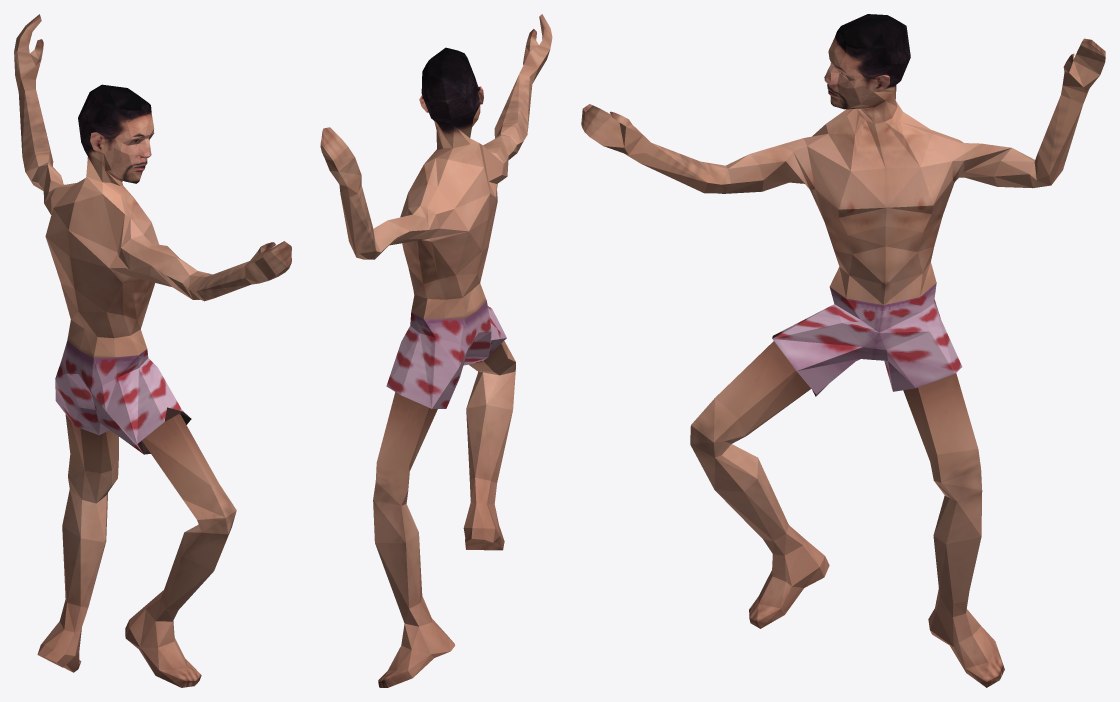
File: wmyva2.obj
3 renders of one model, left to right at view 1: azimuth 30°, elevation 25°; view 2: azimuth 150°, elevation 25°; view 3: azimuth 270°, elevation 25°, orthographic. The views are drawn at different scales.
Parts seen in each view (by area): view 1: _Pelvis; view 2: _Pelvis; view 3: _Pelvis.
Part boxes in pixels (bbox=[...]): _Pelvis: bbox=[14, 14, 291, 687]; _Pelvis: bbox=[320, 14, 552, 687]; _Pelvis: bbox=[581, 14, 1105, 687].
Bounding box in the file's own units: 0.2884 × 1.87 × 1.34.
1 material, 1 textured.
